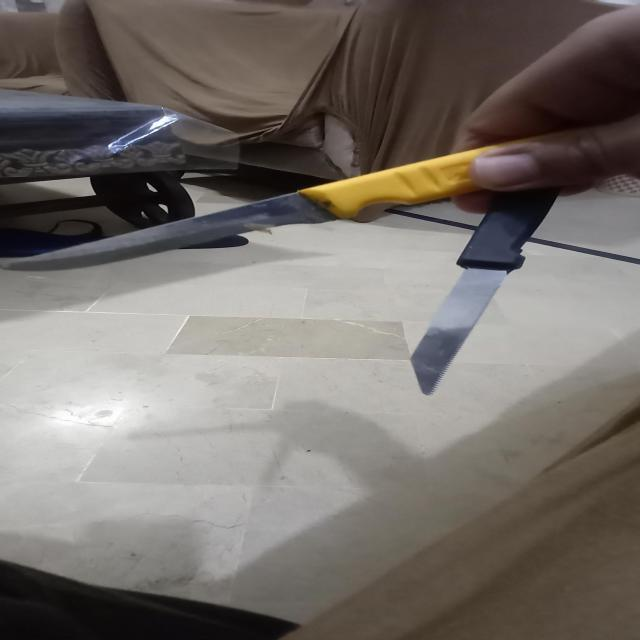faca: (0, 128, 576, 272), (412, 161, 560, 395)
